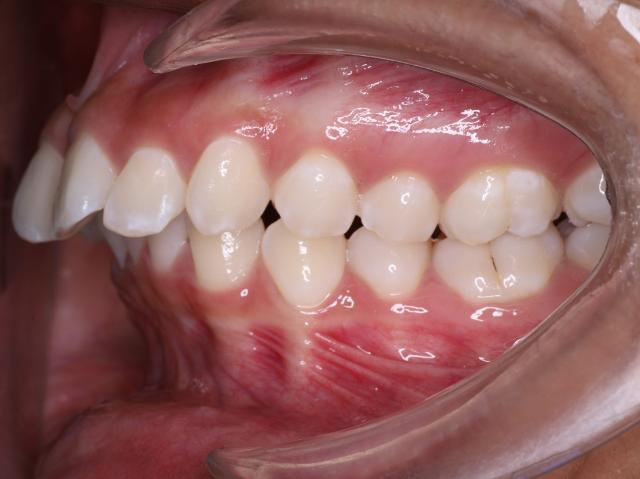canine class II 3/4: (182, 127, 352, 325)
molar class II 1/2: (428, 154, 568, 308)
